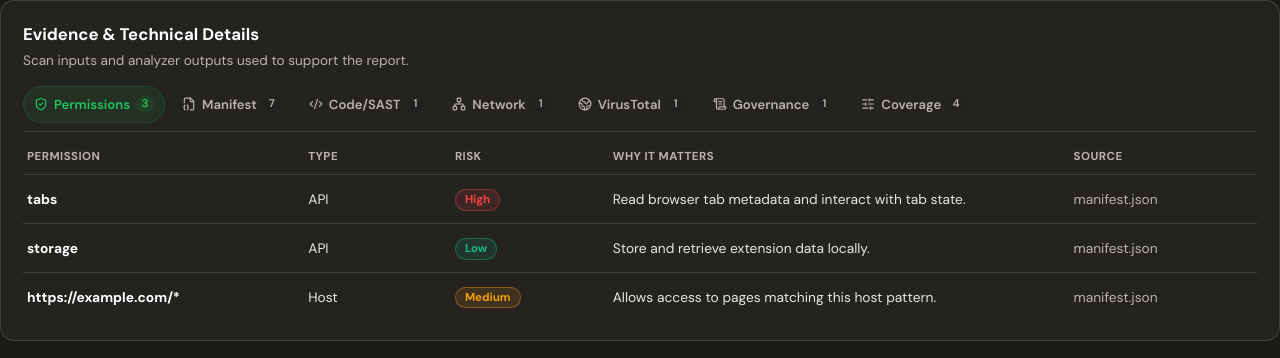
Test: EvidenceTechnicalDetails › renders Code/SAST file, line, and snippet without local absolute paths
This screenshot has width=1280, height=358.
What coordinates should you click on to do the following:
click the tab "Code/SAST 1"
I would click on:
 (367, 104)
Its box is x1=298 y1=86 x2=435 y2=123.
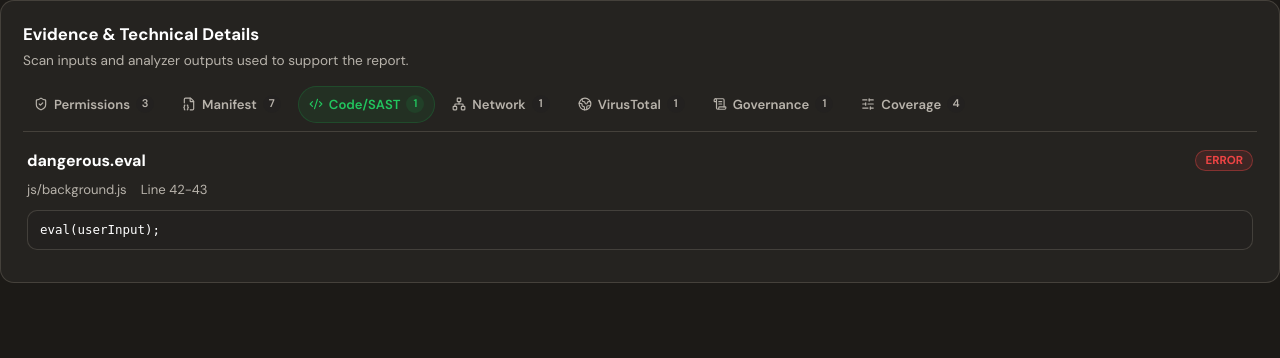
Now the text "dangerous.eval" is shown, box x1=27 y1=148 x2=146 y2=173
Now the text "js/background.js" is shown, box x1=27 y1=179 x2=127 y2=200
Now the text "Line 42-43" is shown, box x1=141 y1=179 x2=208 y2=200
